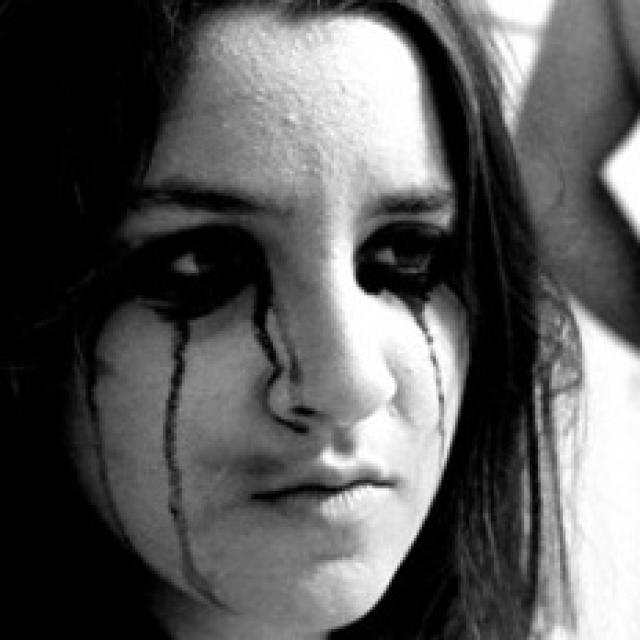Depress: (62, 18, 476, 630)
